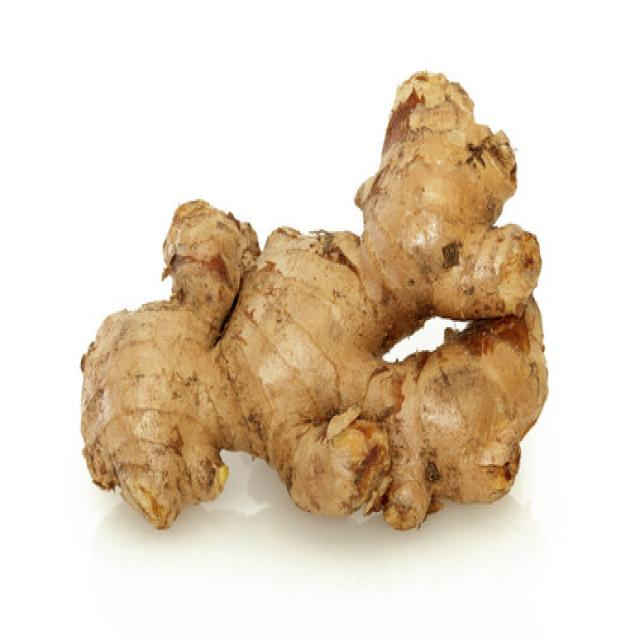Ginger: (78, 68, 549, 532)
